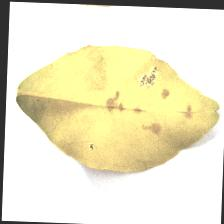canker: (85, 53, 197, 137)
